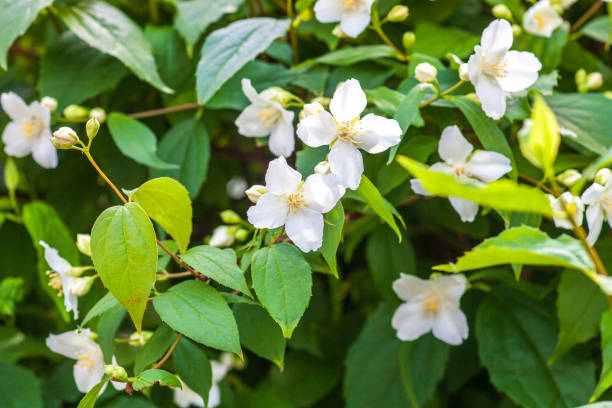flower: (292, 82, 398, 195), (405, 123, 514, 228), (239, 161, 339, 254), (460, 22, 538, 124), (379, 270, 473, 348), (231, 74, 298, 163), (0, 85, 62, 176), (38, 324, 114, 395), (25, 233, 83, 314), (582, 158, 612, 255), (303, 0, 378, 36), (515, 0, 570, 38)
